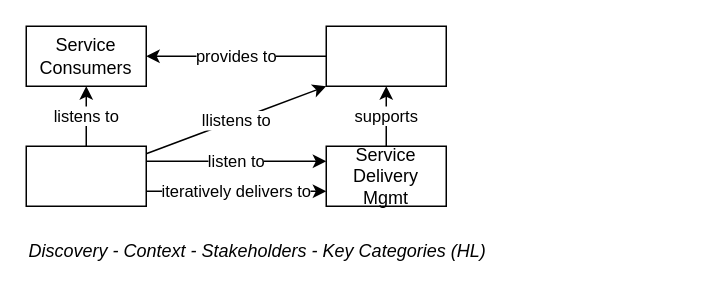
This 713x293 diagram has some shape labels left out. The centre of each missing label's shape, as x and y in pixels:
"Service Development Mgmt" belongs at [85,175].
"Service Providers" belongs at [385,55].
